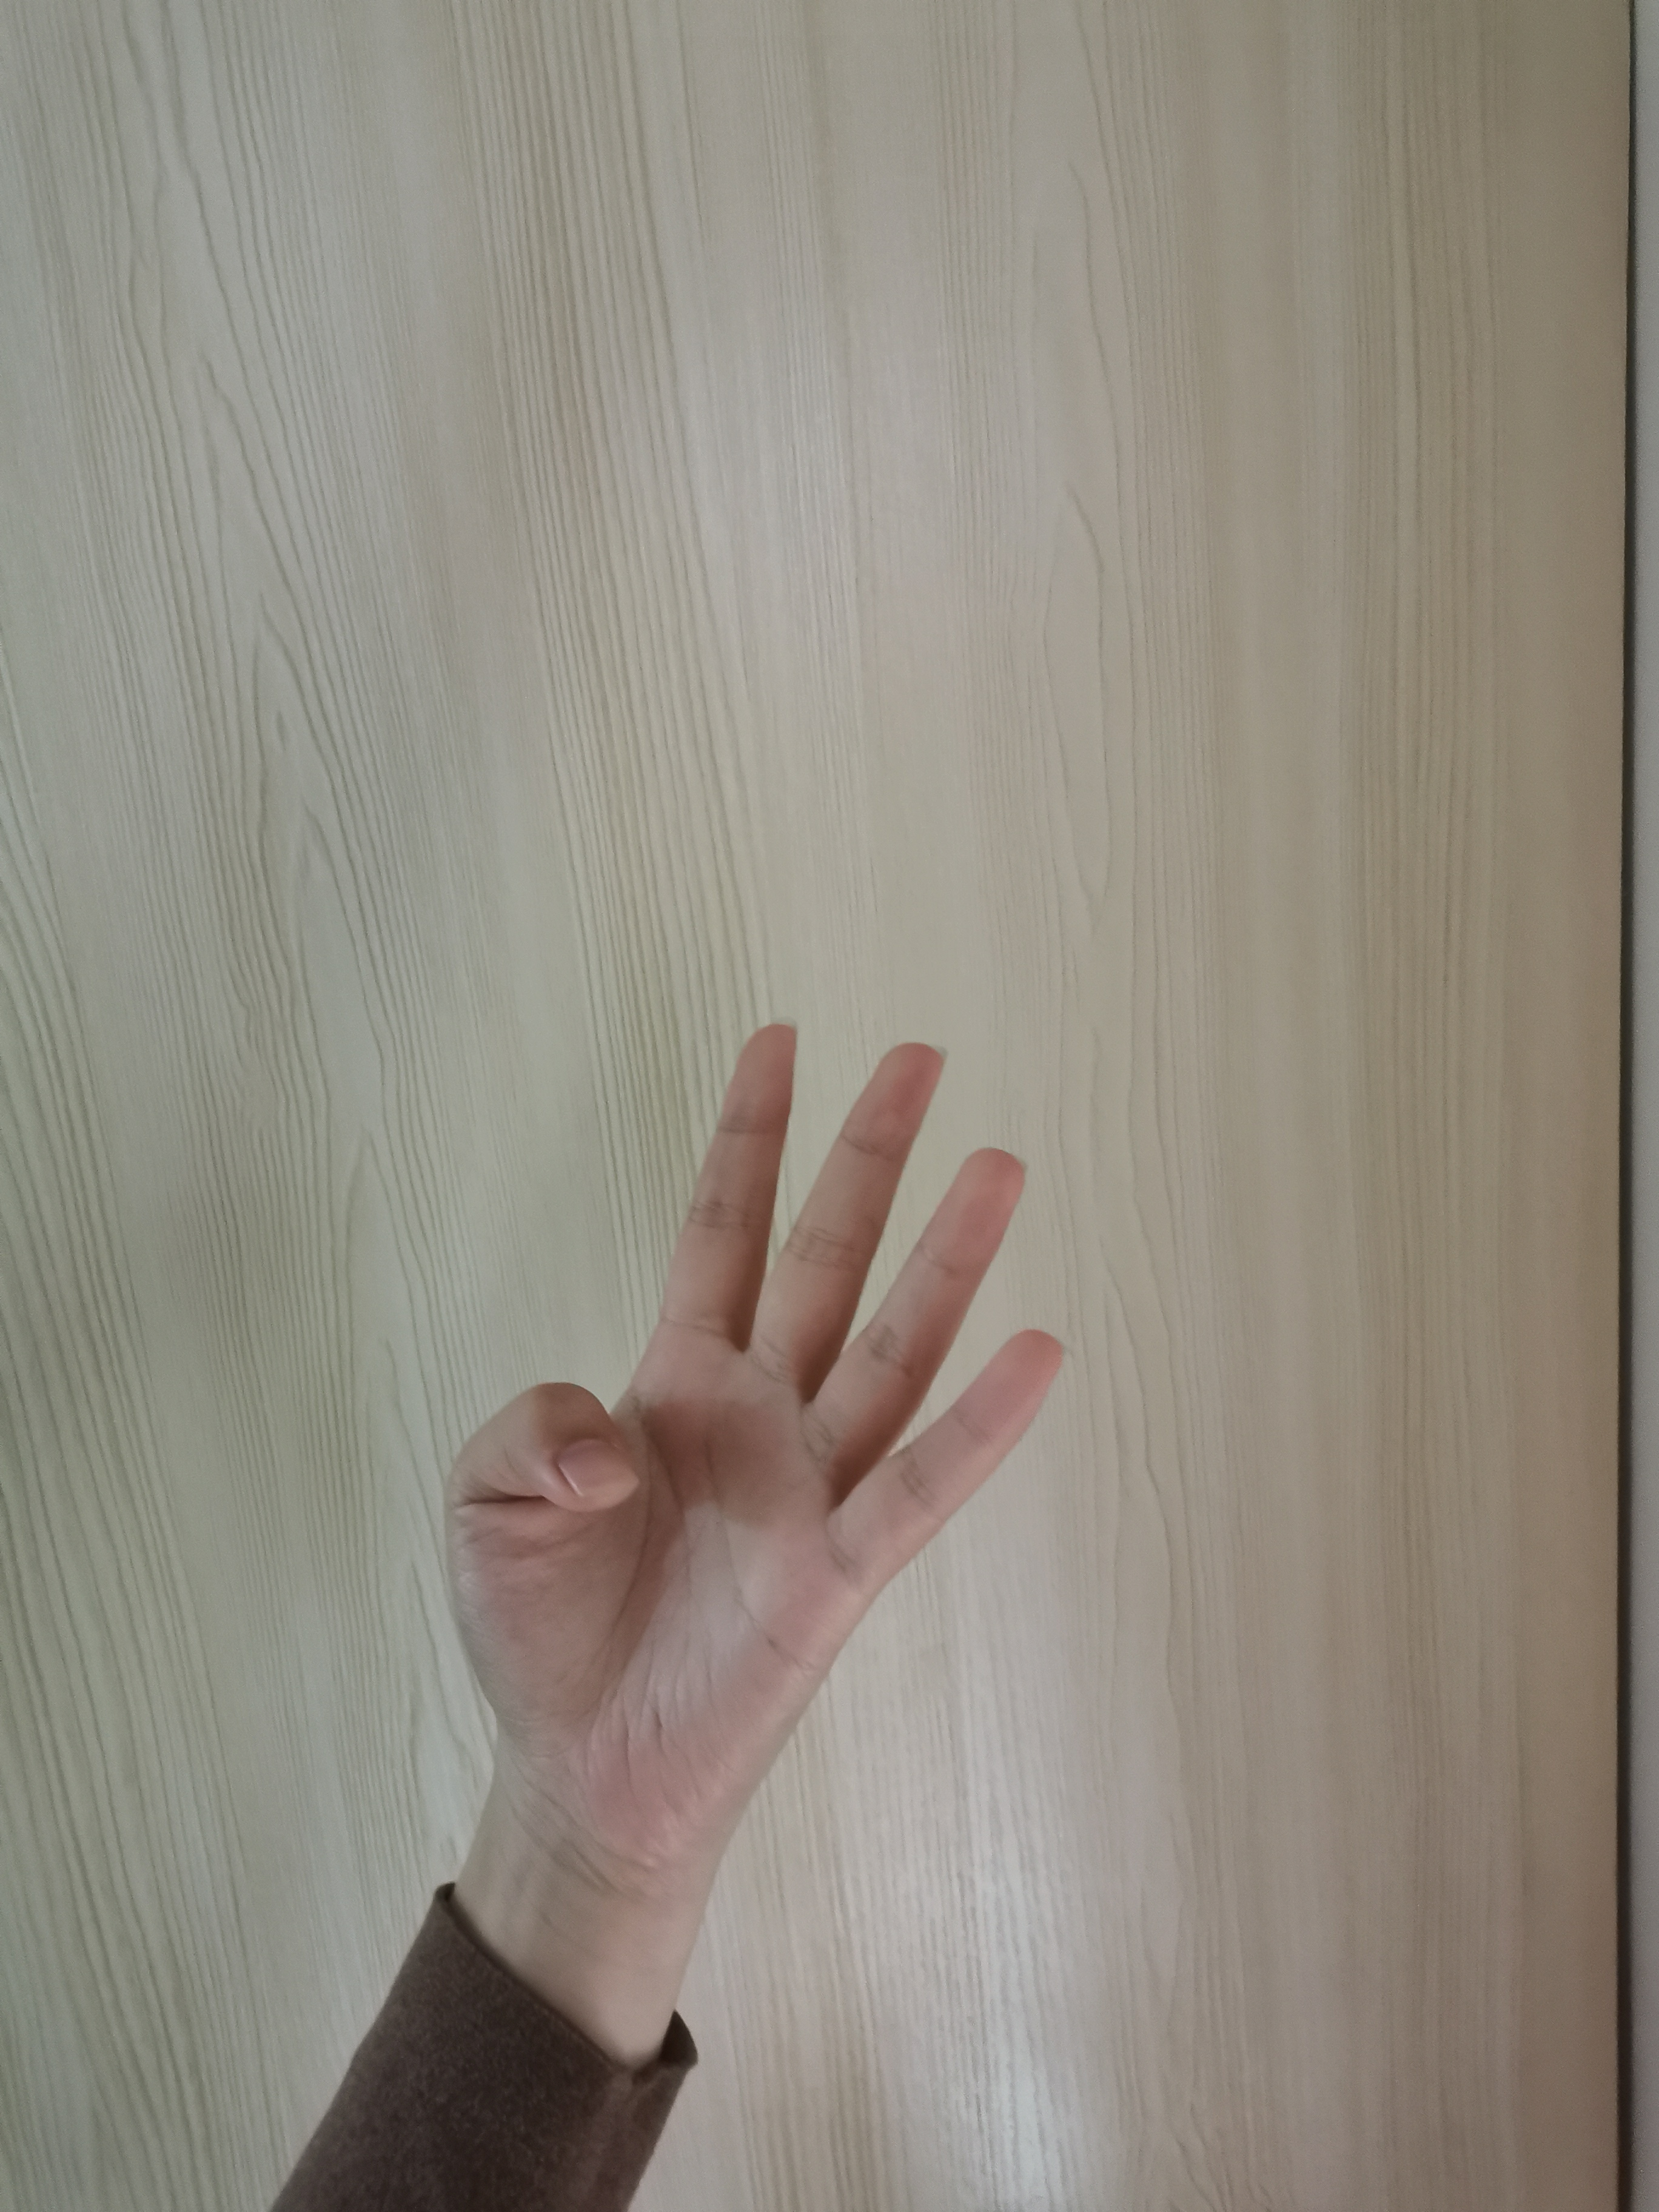right: (448, 1015, 1066, 1754)
